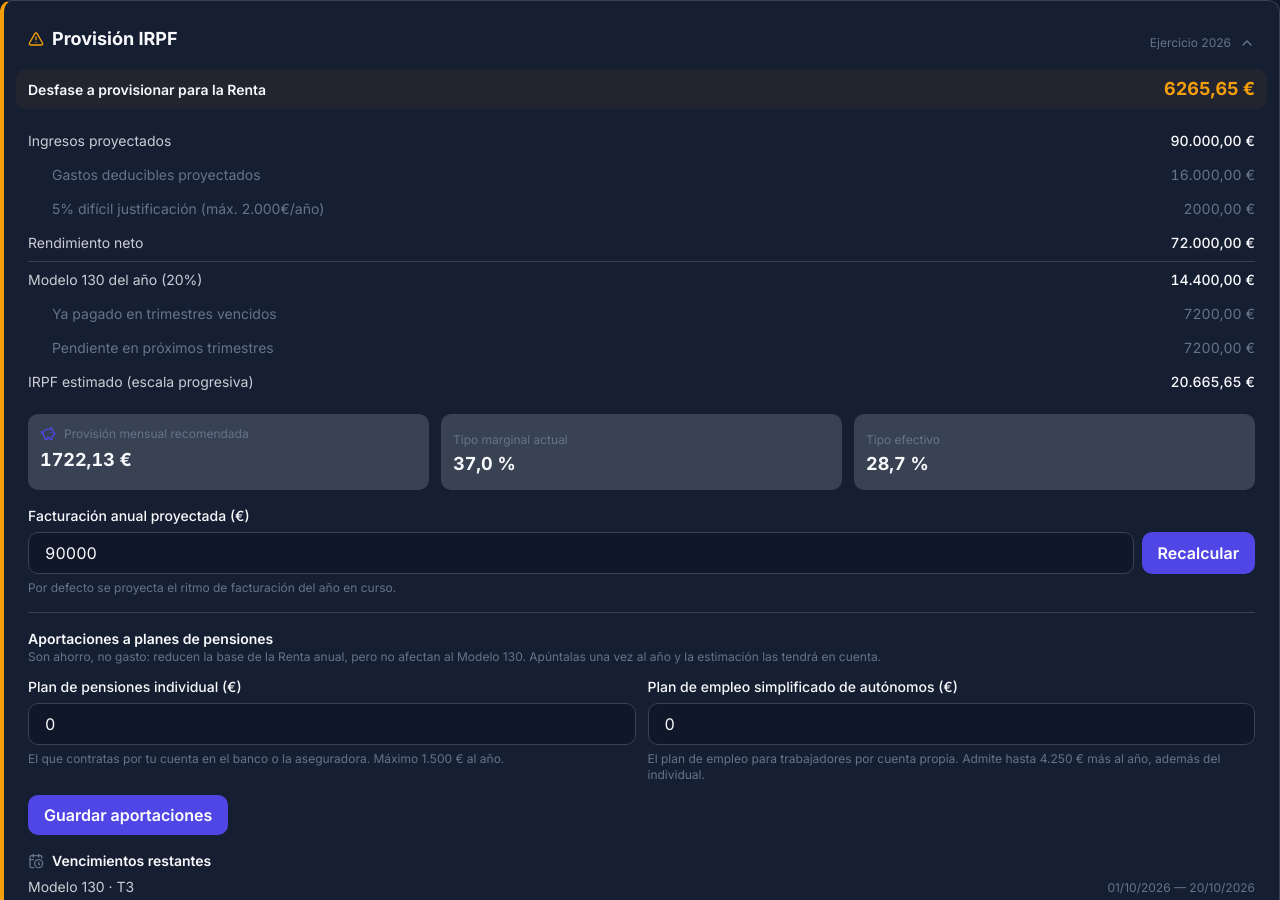
IrpfProvisionCard › collapse toggle › collapses the detail on click and keeps the headline gap visible
Step 1. Click the button "Provisión IRPF Ejercicio 2026" → [115, 38], box [28, 25, 1255, 53]
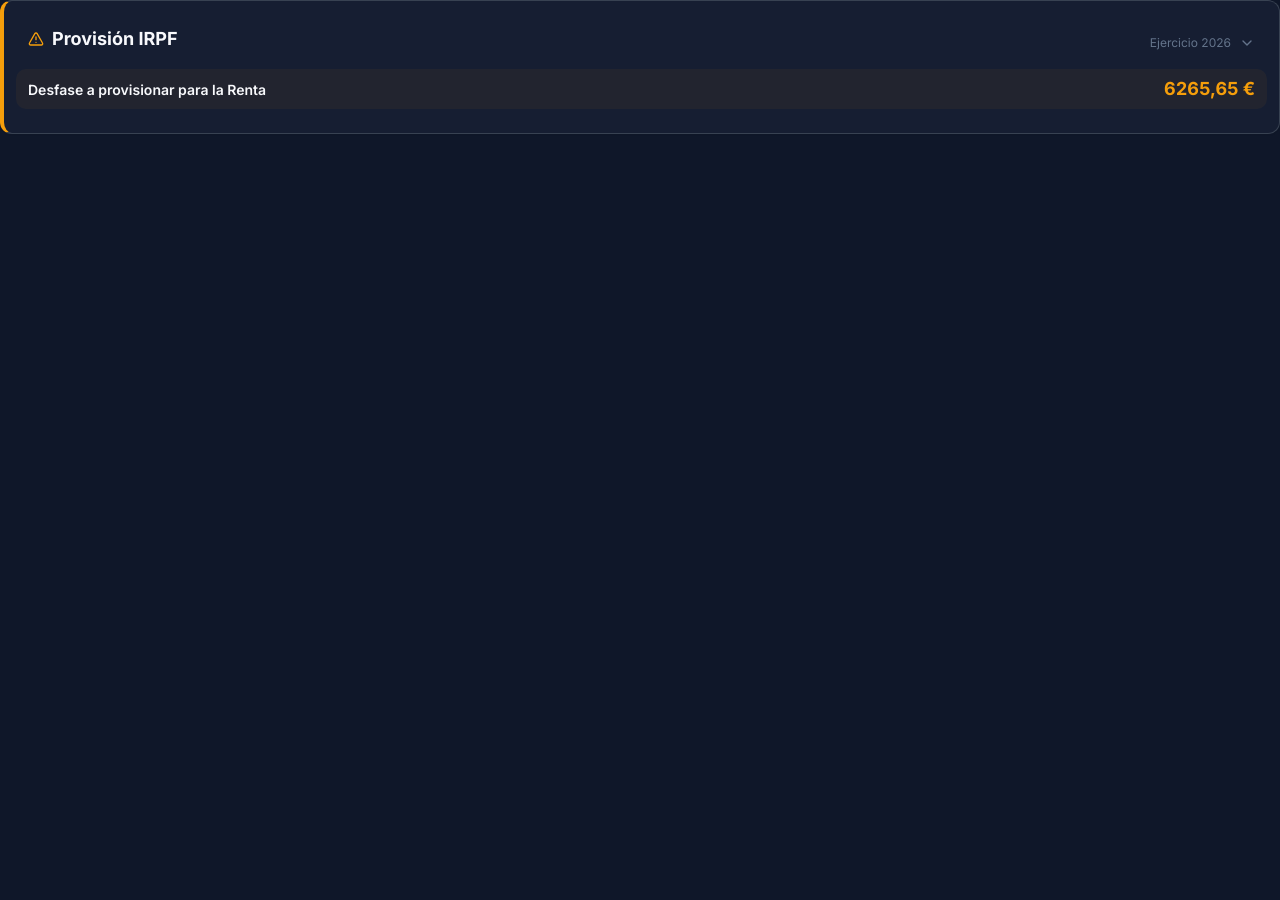
Check: the button "Provisión IRPF Ejercicio 2026" is collapsed, box [28, 25, 1255, 53]
